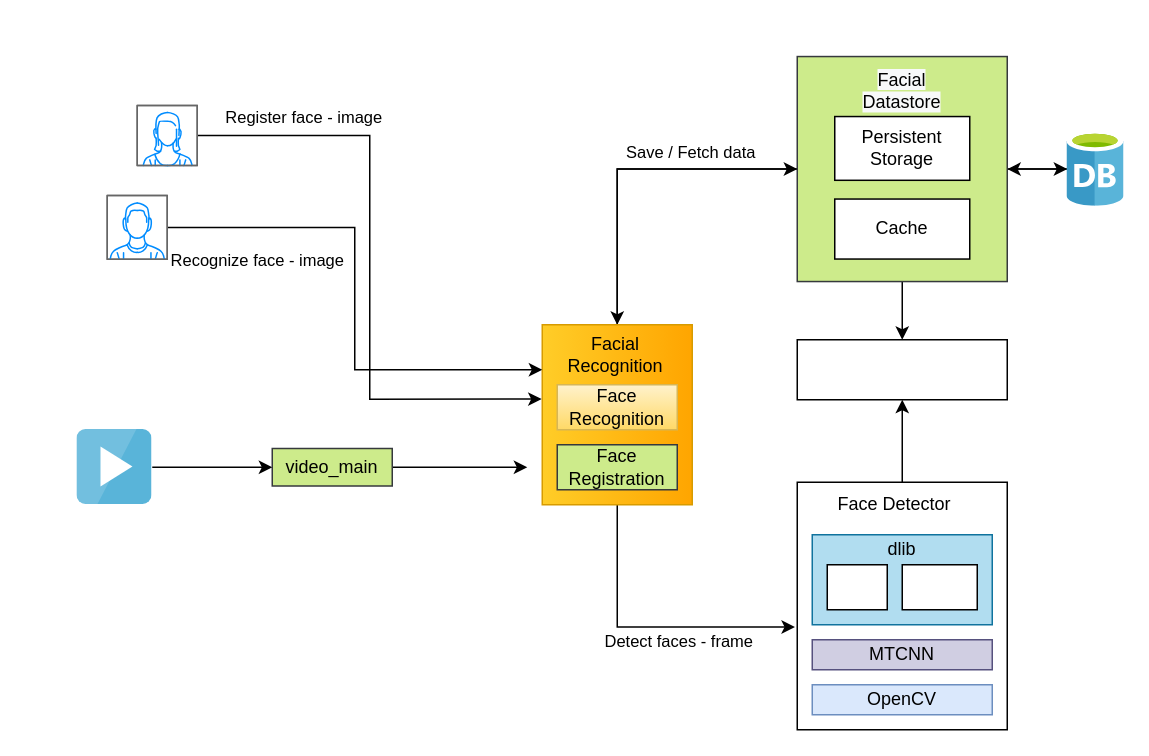
Image size: 1149x756. Some labels were removed from this diagram. The shapes that lost their labels are listed below. From the top down, each one's box as (x1, y1, x2, y2) in pixels, then its label:
(796, 338, 1007, 400): Helper Utilities
(76, 429, 152, 504): Video / Webcam Feed
(826, 563, 887, 610): HOG
(901, 563, 977, 610): MMOD
